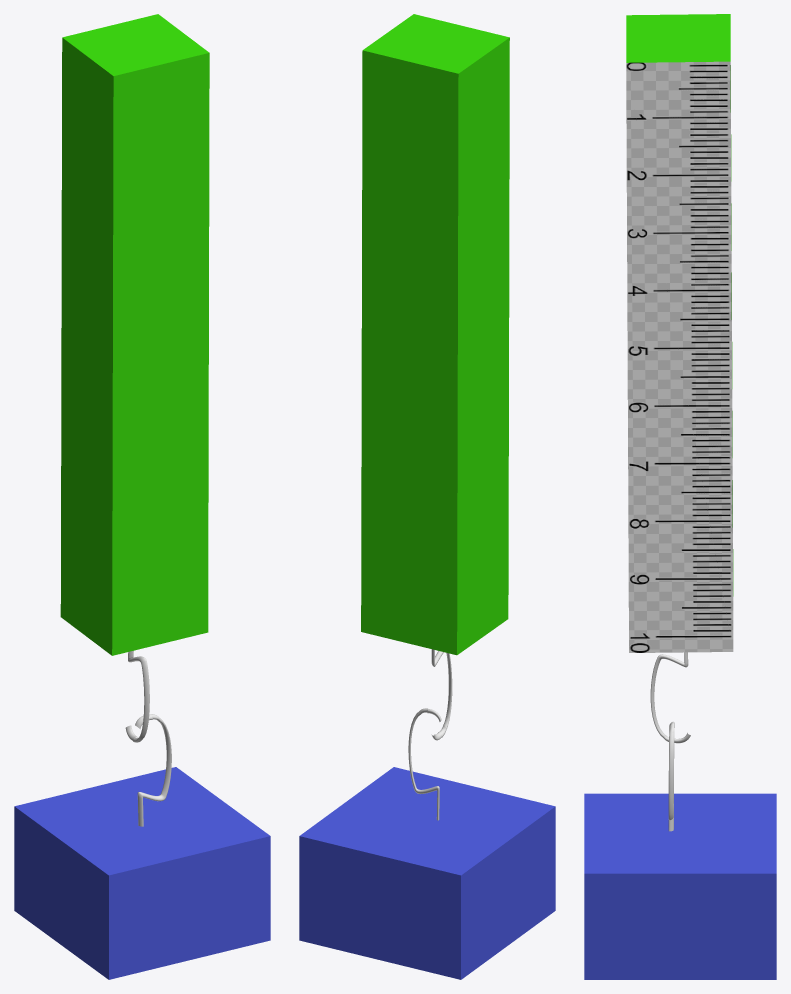
File: dynamometre.glb
The picture shows the model from 3 angles, left to right: view 1: azimuth 30°, elevation 25°; view 2: azimuth 150°, elevation 25°; view 3: azimuth 270°, elevation 25°; orthographic projection.
Visible parts, largest first — view 1: Cube, Cube.001, BezierCurve.001, BezierCurve; view 2: Cube, Cube.001, BezierCurve.001, BezierCurve; view 3: Cube, Cube.001, BezierCurve, BezierCurve.001.
Boxes of the visible parts, left/top/right/bottom form: Cube: left=60, top=14, right=209, bottom=655; Cube.001: left=14, top=767, right=270, bottom=979; BezierCurve.001: left=135, top=714, right=171, bottom=826; BezierCurve: left=125, top=650, right=149, bottom=742; Cube: left=361, top=14, right=509, bottom=655; Cube.001: left=299, top=767, right=555, bottom=979; BezierCurve.001: left=408, top=708, right=441, bottom=820; BezierCurve: left=431, top=649, right=452, bottom=740; Cube: left=626, top=14, right=733, bottom=652; Cube.001: left=584, top=793, right=776, bottom=979; BezierCurve: left=650, top=652, right=690, bottom=743; BezierCurve.001: left=668, top=721, right=674, bottom=831.
Size of the model in its own units: 1.18 by 6.16 by 1.19.
3 materials, 1 textured.
